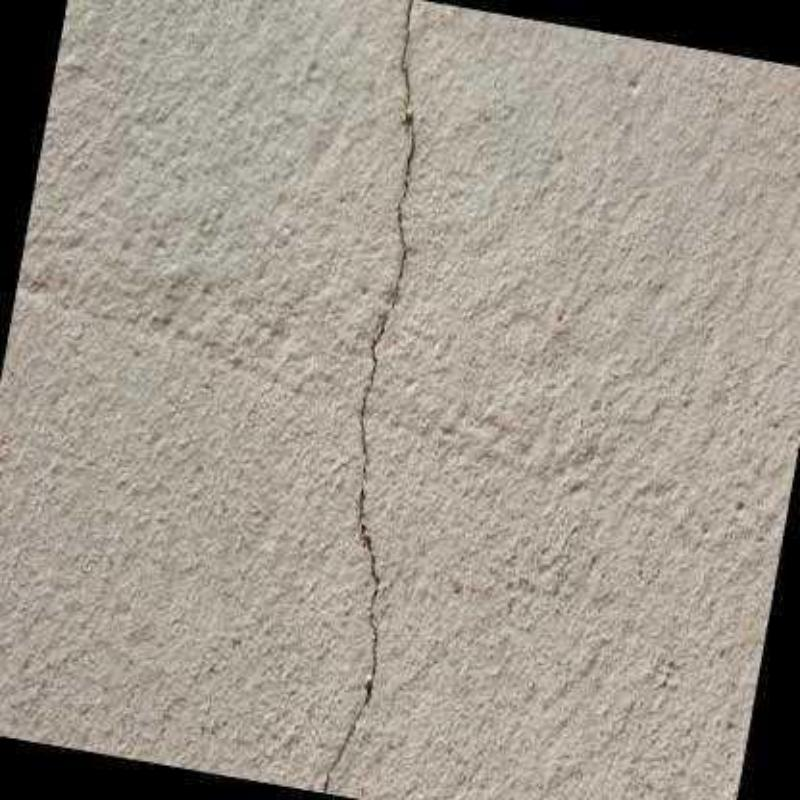crack: (322, 0, 416, 793)
